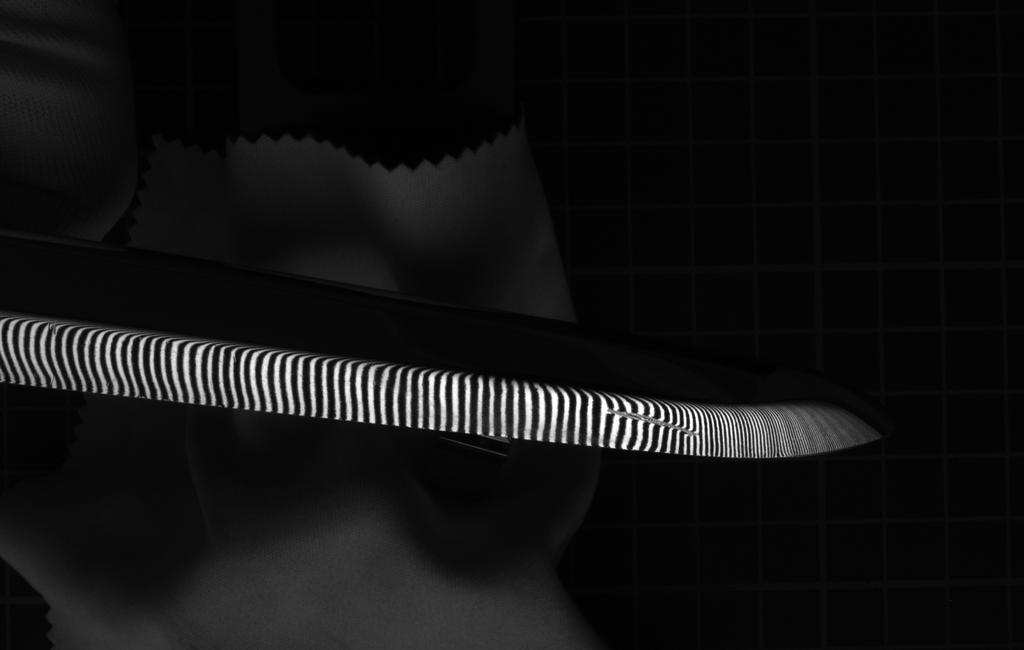Scratch: (599, 404, 716, 446)
